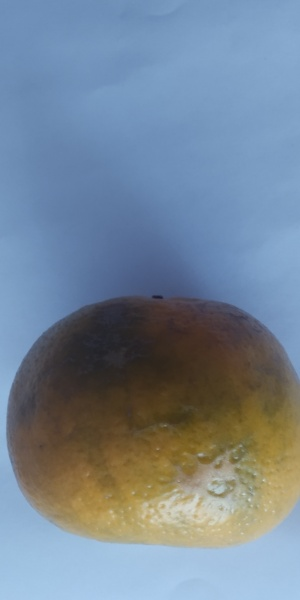BAD: (6, 295, 300, 549)
